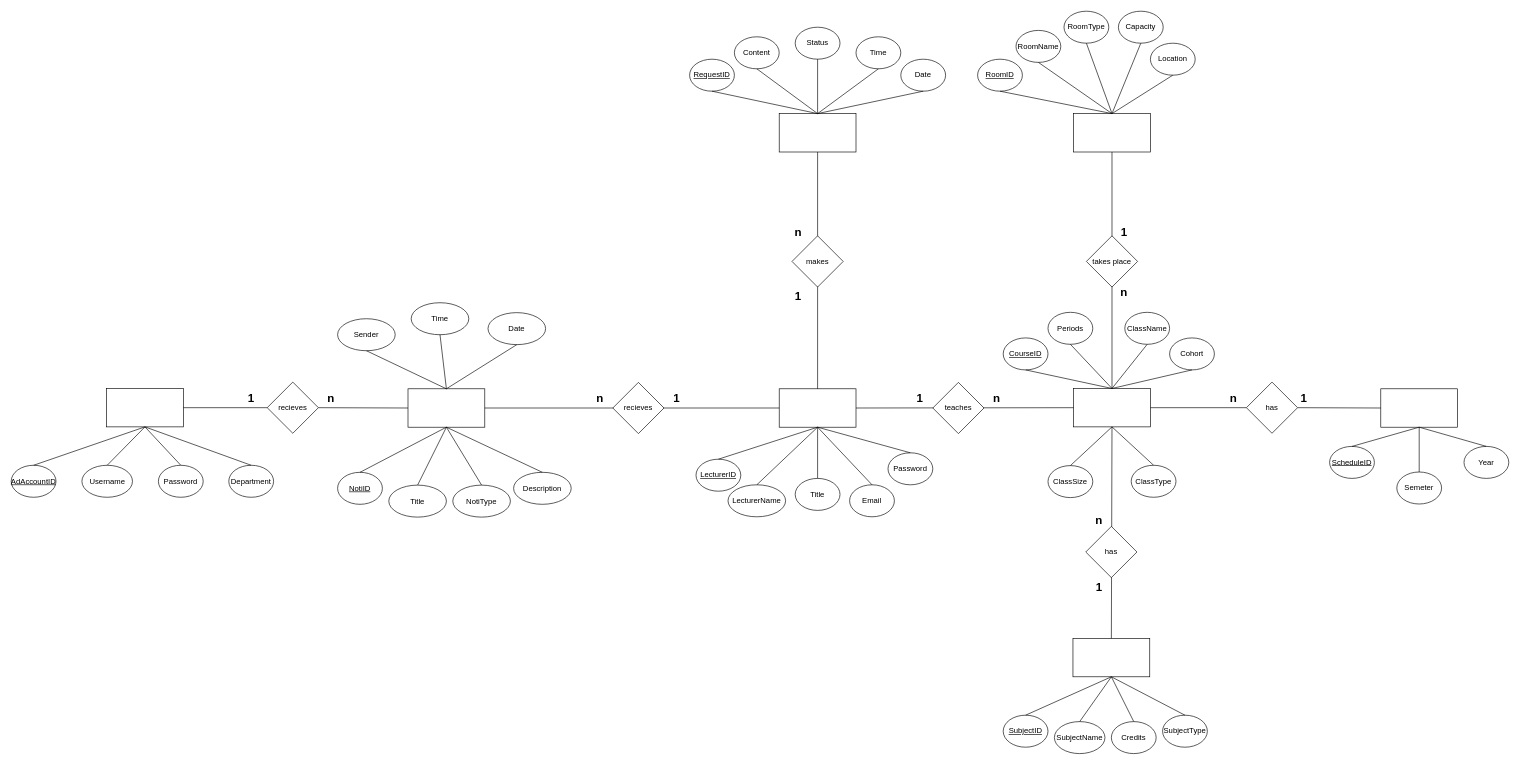
This 1520x765 diagram has some shape labels left out. Each missing label, with the centre of its shape:
"ADMIN ACCOUNT" belongs at (x=144, y=407).
"COURSE" belongs at (x=1111, y=407).
"LECTURER" belongs at (x=817, y=407).
"NOTIFICATION" belongs at (x=446, y=407).
"REQUEST" belongs at (x=817, y=132).
"ROOM" belongs at (x=1111, y=132).
"SCHEDULE" belongs at (x=1419, y=407).
"SUBJECT" belongs at (x=1111, y=657).
